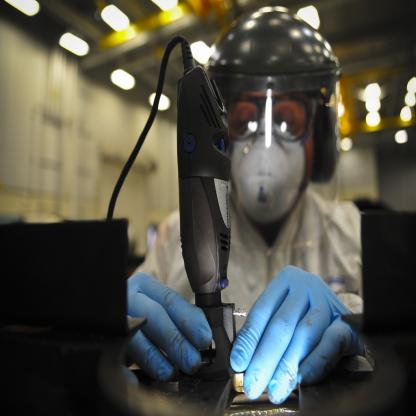Helmet: (197, 13, 344, 205)
